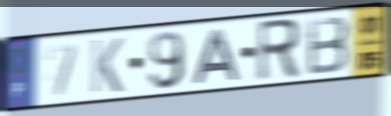7: (43, 42, 79, 98)
9: (147, 29, 187, 91)
A: (191, 27, 243, 86)
B: (305, 14, 352, 78)
K: (89, 36, 126, 95)
R: (254, 16, 302, 85)
